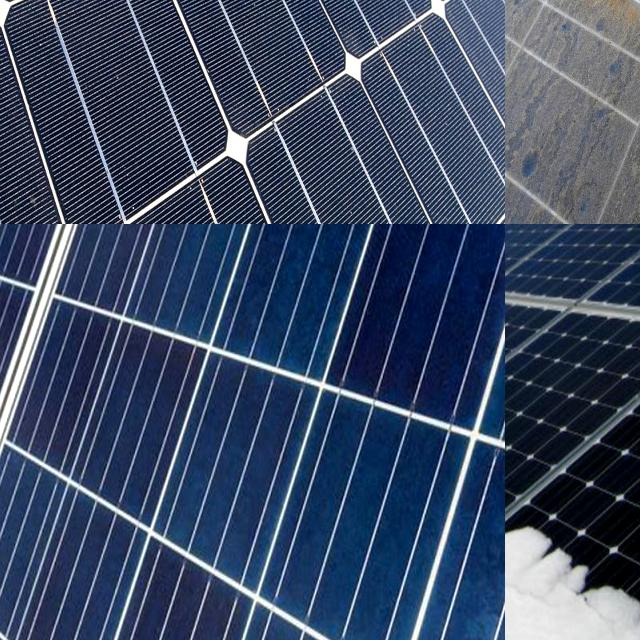crack: (0, 224, 505, 640), (227, 21, 505, 224), (0, 0, 238, 224), (147, 0, 392, 183), (328, 0, 505, 224), (43, 144, 374, 224)
dust: (505, 0, 640, 144), (505, 0, 557, 224), (548, 0, 640, 111)
panel: (505, 529, 640, 640), (505, 334, 579, 443), (505, 474, 572, 573), (505, 224, 582, 306), (505, 243, 563, 331), (505, 413, 567, 495), (505, 578, 550, 640), (505, 224, 558, 270)
